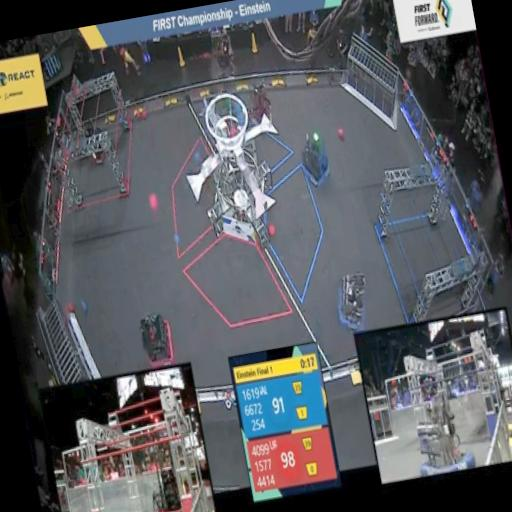robot: (326, 256, 376, 336), (130, 296, 180, 370), (292, 120, 340, 192), (241, 78, 279, 138), (76, 112, 112, 170)
